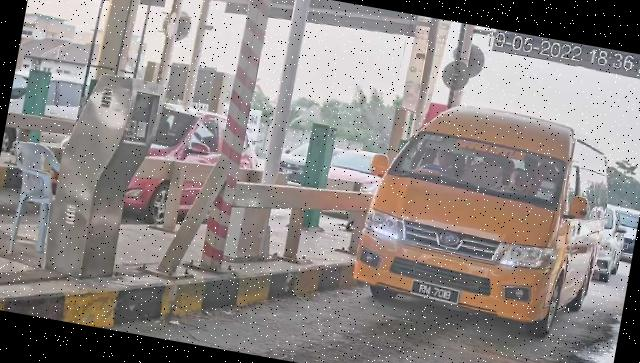License_Plate: (410, 280, 462, 307)
van: (349, 90, 621, 346)
